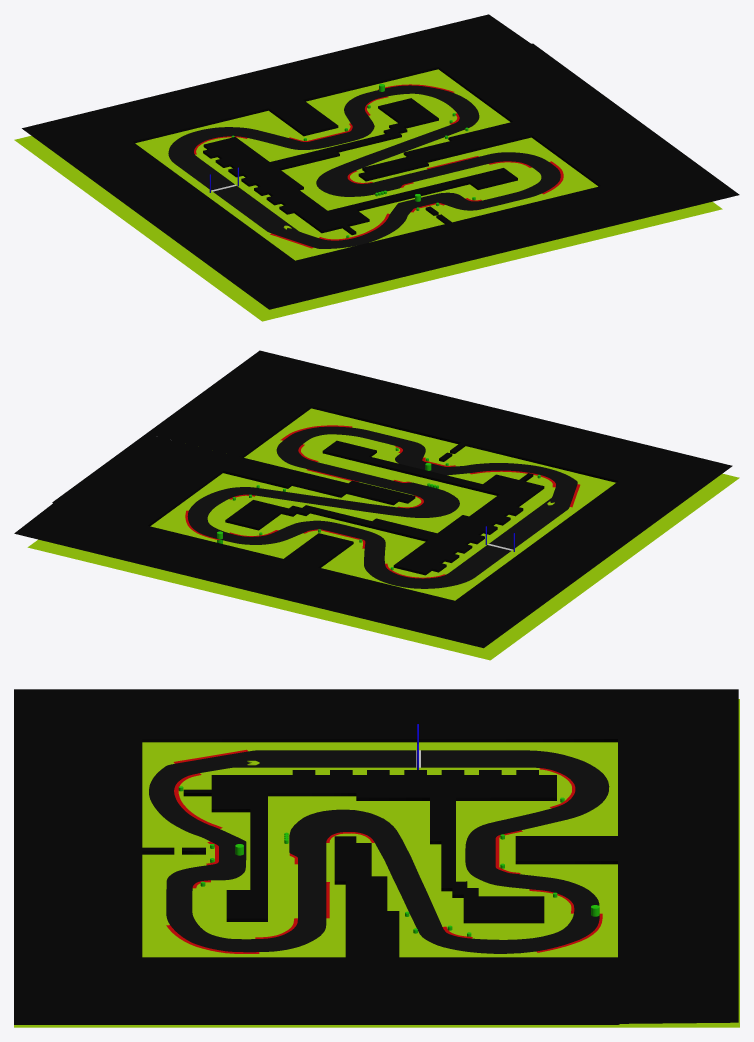
3 renders of one model, top to bottom at view 1: azimuth 30°, elevation 25°; view 2: azimuth 150°, elevation 25°; view 3: azimuth 270°, elevation 25°, orthographic. The views are drawn at different scales.
Parts seen in each view (by area): view 1: Boost_panel.001; view 2: Boost_panel.001; view 3: Boost_panel.001.
Boxes of the visible parts, x1,y1,x2,y2 form: Boost_panel.001: (14,14,739,321); Boost_panel.001: (14,350,739,660); Boost_panel.001: (14,689,739,1027).
Bounding box in the file's own units: 642 × 31.89 × 578.
